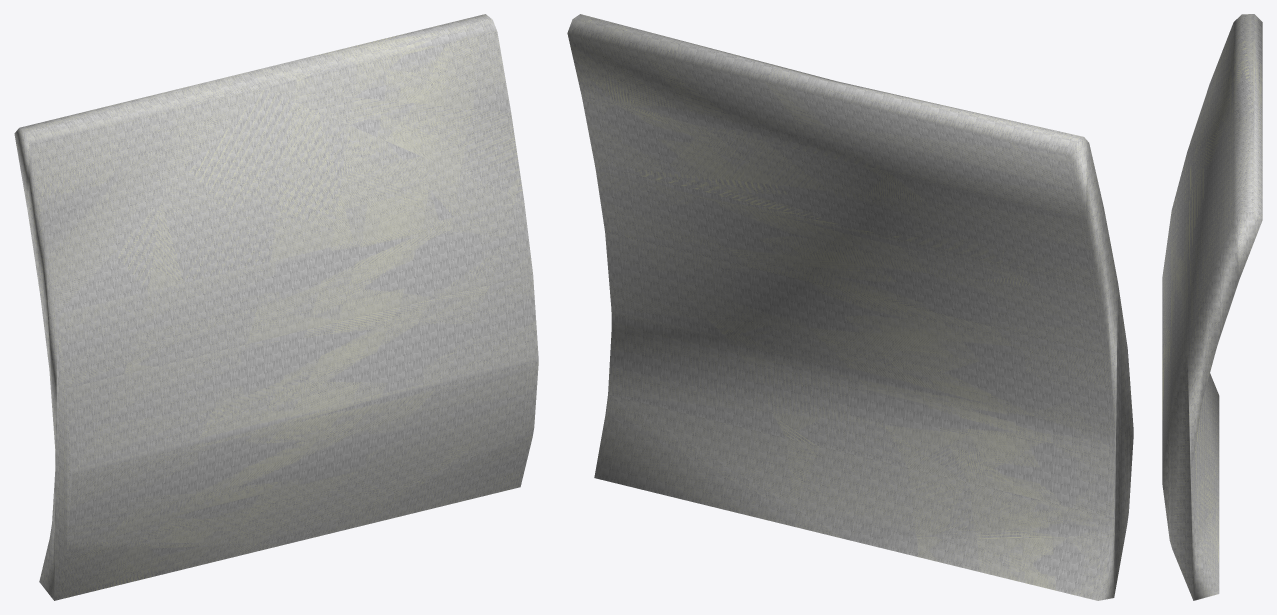
File: original-19.obj
The picture shows the model from 3 angles, left to right: view 1: azimuth 30°, elevation 25°; view 2: azimuth 150°, elevation 25°; view 3: azimuth 270°, elevation 25°; orthographic projection. The views are drawn at different scales.
Visible parts, largest first — view 1: Obj_000026_1/Obj_000026/mesh24/mesh24-geometry#mesh24-geometry; view 2: Obj_000026_1/Obj_000026/mesh24/mesh24-geometry#mesh24-geometry; view 3: Obj_000026_1/Obj_000026/mesh24/mesh24-geometry#mesh24-geometry.
Boxes of the visible parts, x1,y1,x2,y2 form: Obj_000026_1/Obj_000026/mesh24/mesh24-geometry#mesh24-geometry: (14, 14, 538, 600); Obj_000026_1/Obj_000026/mesh24/mesh24-geometry#mesh24-geometry: (567, 14, 1133, 600); Obj_000026_1/Obj_000026/mesh24/mesh24-geometry#mesh24-geometry: (1162, 14, 1262, 600).
Size of the model in its own units: 0.7778 by 0.7133 by 0.1669.
